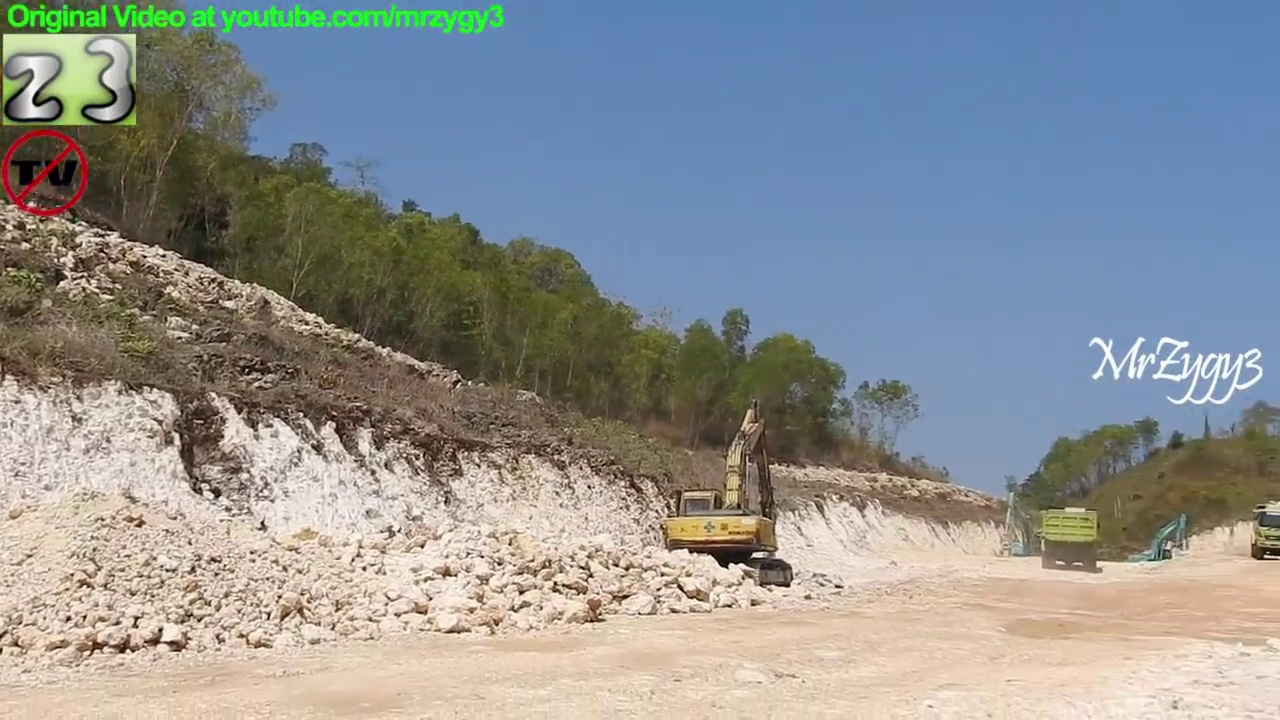excavator: (662, 396, 799, 593), (1126, 512, 1192, 567)
excavator breaker: (999, 488, 1044, 561)
truck: (1038, 503, 1105, 576), (1248, 496, 1280, 562)
